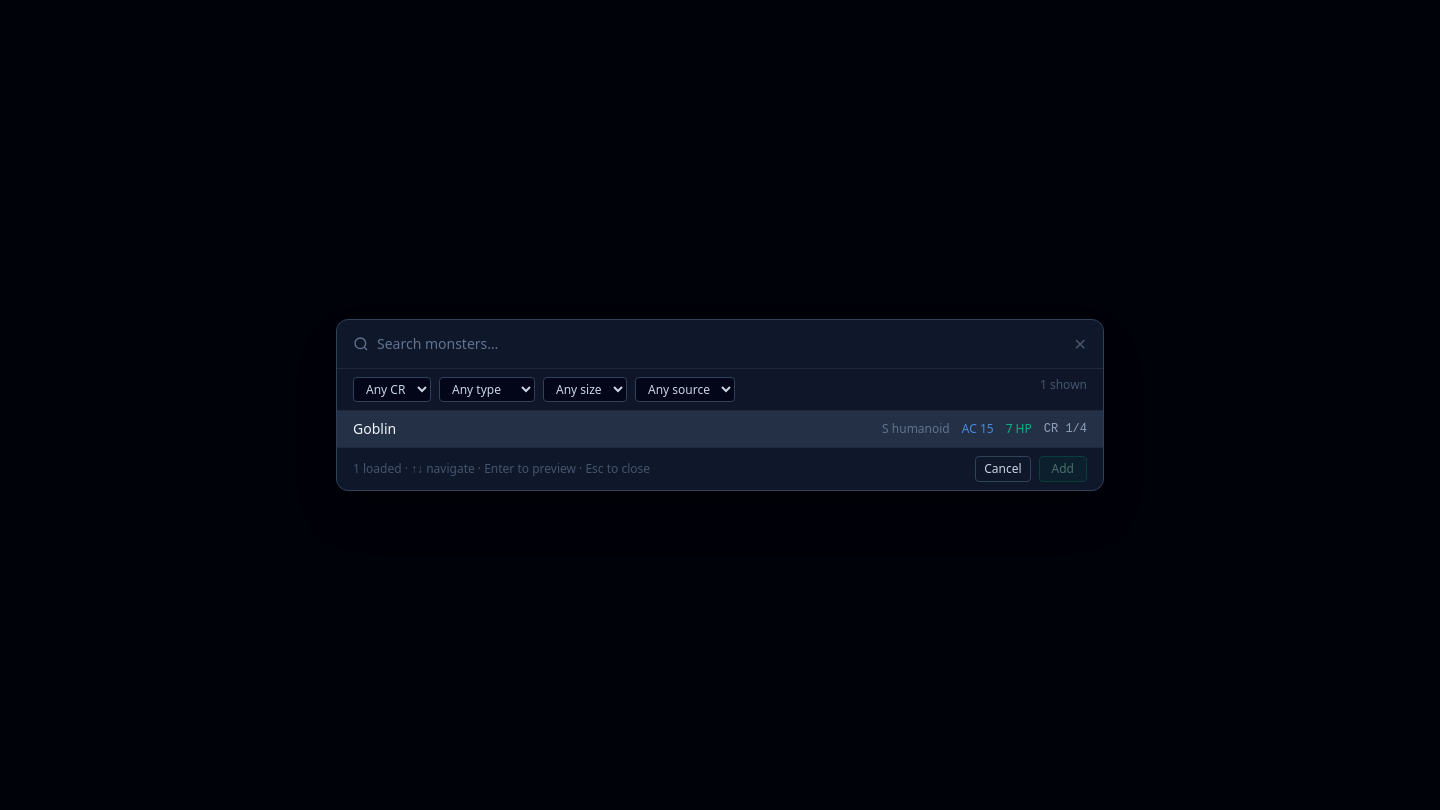
Test: MonsterPicker › preview renders the statblock from embedded data without any fetch
The image size is (1440, 810).
Click the text "Goblin" at (375, 428), box top-left (353, 419), bottom-right (396, 438)
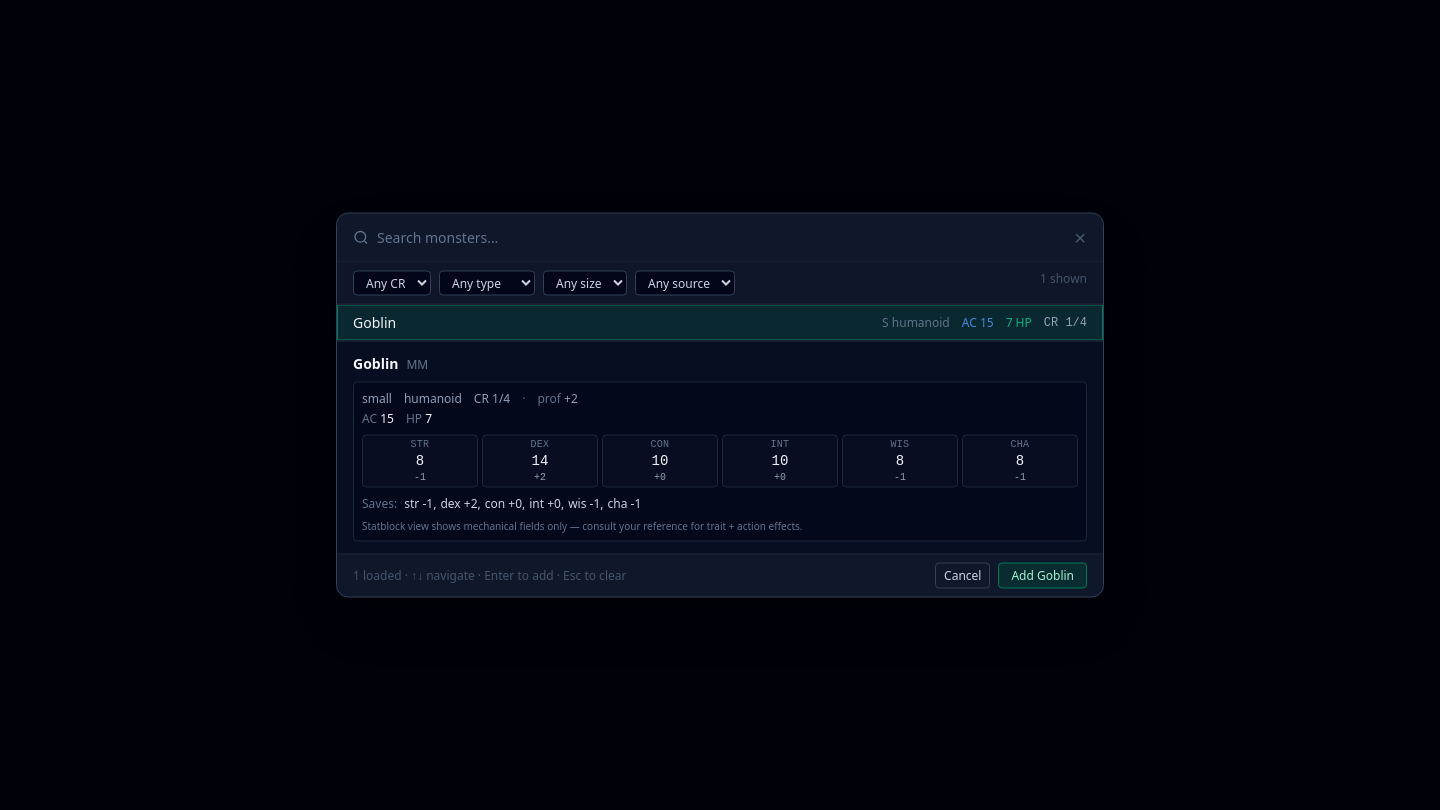
Result: the text "Saves:" is shown at top-left (362, 494), bottom-right (397, 511)
Result: the text "str 8 -1" is shown at top-left (362, 434), bottom-right (478, 487)
